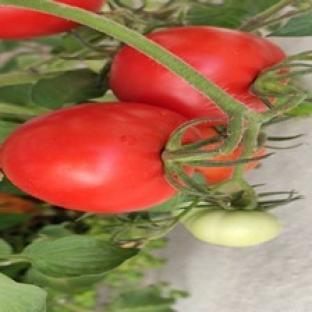Tomato: (0, 104, 186, 213), (148, 27, 285, 111), (183, 209, 281, 246), (0, 6, 76, 38), (195, 165, 235, 185), (0, 193, 37, 214)
